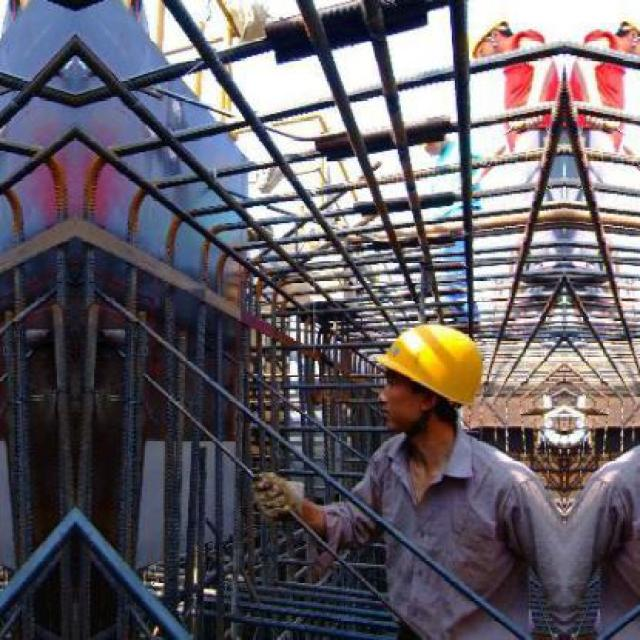helmet: (364, 316, 489, 436), (454, 13, 511, 70), (614, 12, 637, 71)
